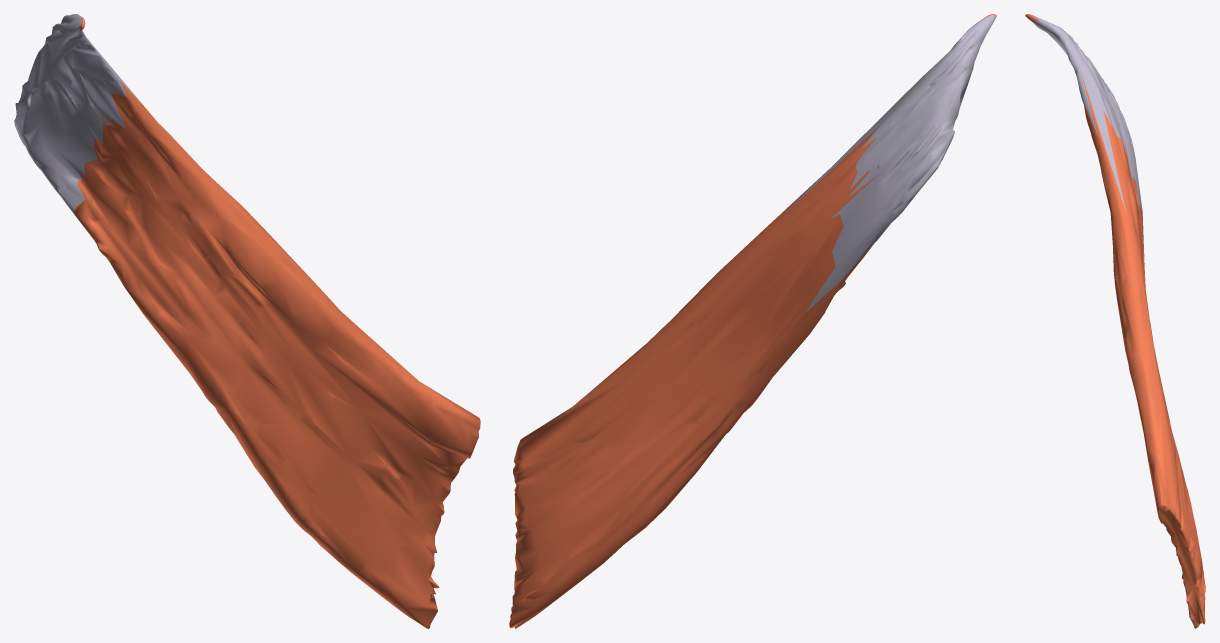
File: Rhomboid_minor_left.glb
The picture shows the model from 3 angles, left to right: view 1: azimuth 30°, elevation 25°; view 2: azimuth 150°, elevation 25°; view 3: azimuth 270°, elevation 25°; orthographic projection. The views are drawn at different scales.
Visible parts, largest first — view 1: Rhomboid_minor_muscle.l_Generated_Mesh_From_X3D.240; view 2: Rhomboid_minor_muscle.l_Generated_Mesh_From_X3D.240; view 3: Rhomboid_minor_muscle.l_Generated_Mesh_From_X3D.240.
Part boxes in pixels (x1,y1,x2,y2): Rhomboid_minor_muscle.l_Generated_Mesh_From_X3D.240: (14,14,480,628); Rhomboid_minor_muscle.l_Generated_Mesh_From_X3D.240: (509,14,996,628); Rhomboid_minor_muscle.l_Generated_Mesh_From_X3D.240: (1025,14,1205,628).
Size of the model in its own units: 0.0654 by 0.101 by 0.0346.
